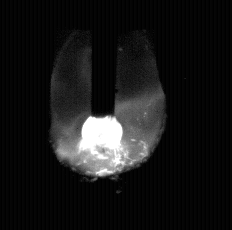arame: (92, 0, 116, 118)
poca: (50, 0, 163, 230)
